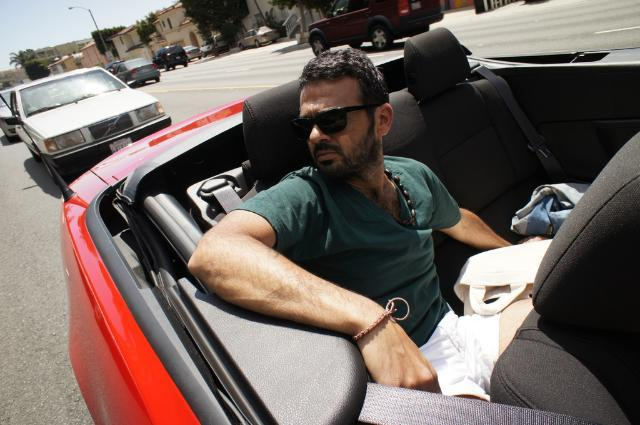Seatbelt: (469, 59, 567, 184)
